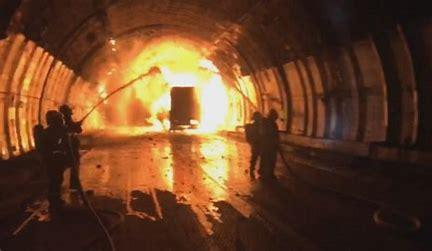smoke: (71, 83, 170, 134), (131, 41, 212, 84), (195, 76, 244, 132)
